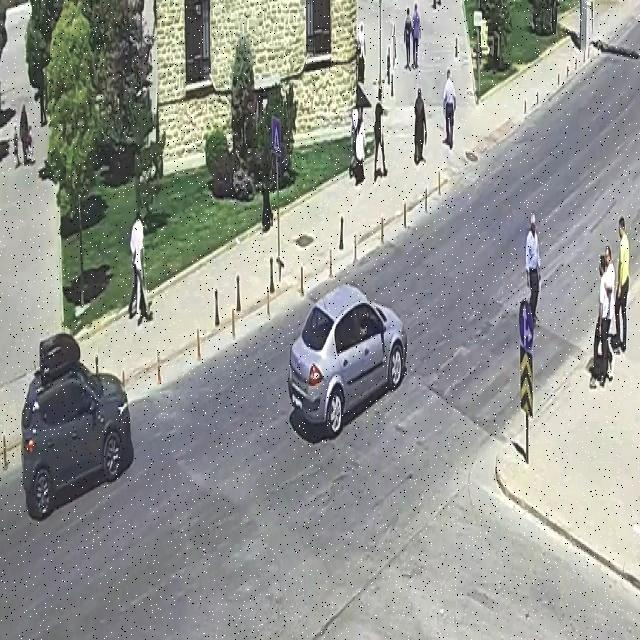Car: (290, 283, 409, 436), (18, 363, 132, 521)
